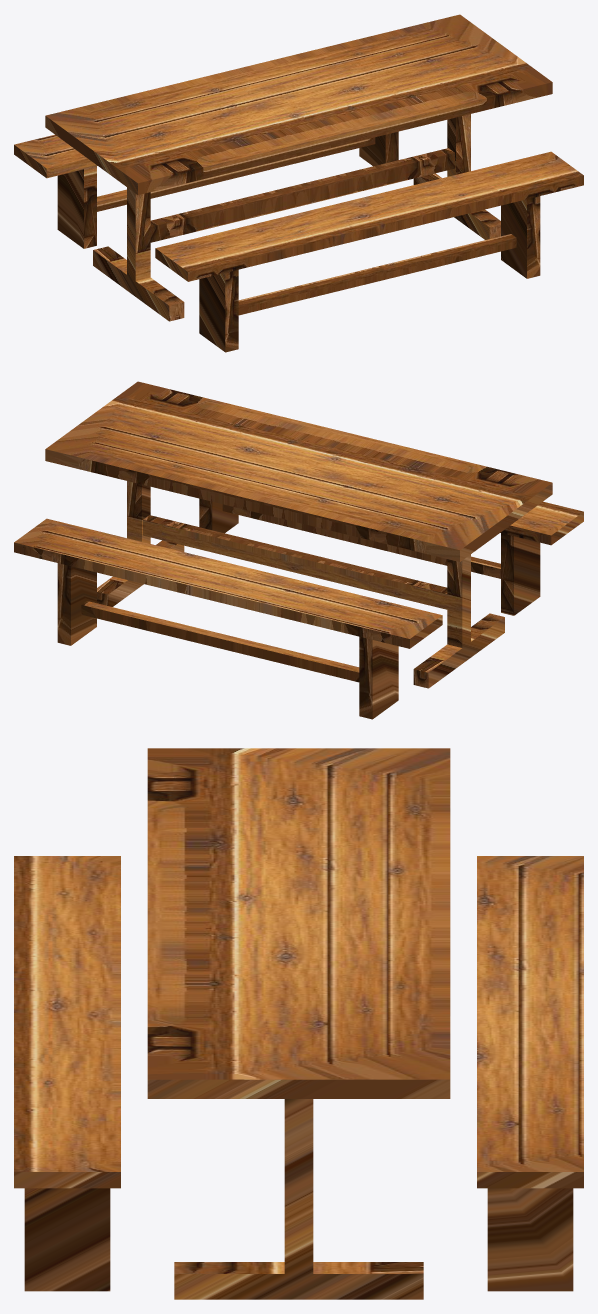
The model's file is v3-tavern-trestle-table.glb.
The picture shows the model from 3 angles, top to bottom: view 1: azimuth 30°, elevation 25°; view 2: azimuth 150°, elevation 25°; view 3: azimuth 270°, elevation 25°; orthographic projection. The views are drawn at different scales.
Visible parts, largest first — view 1: v3-tavern-trestle-table; view 2: v3-tavern-trestle-table; view 3: v3-tavern-trestle-table.
Boxes of the visible parts, <box> form: v3-tavern-trestle-table: <box>14,14,583,352</box>; v3-tavern-trestle-table: <box>14,381,583,719</box>; v3-tavern-trestle-table: <box>14,748,583,1299</box>.
Size of the model in its own units: 2.2 by 0.78 by 1.6.
1 material, 1 textured.
